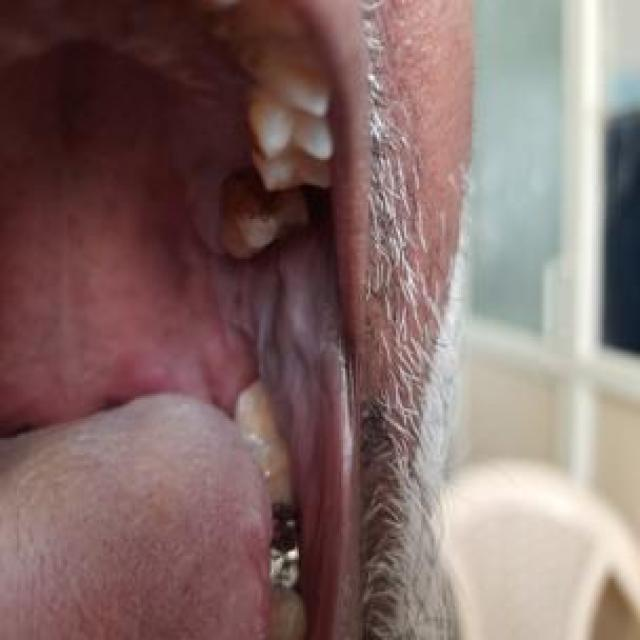leukoplakia-detection: (216, 218, 342, 470)
processing_area: (2, 12, 344, 638)
